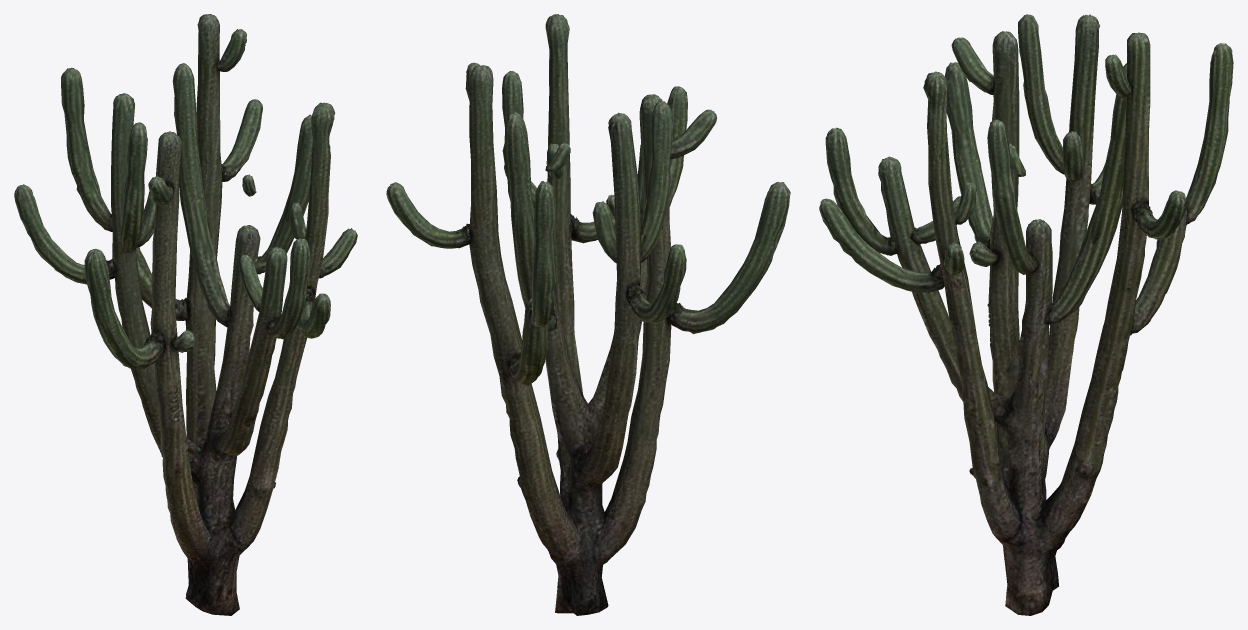
The model's file is runtime-candelabra-cactus.glb.
The picture shows the model from 3 angles, left to right: view 1: azimuth 30°, elevation 25°; view 2: azimuth 150°, elevation 25°; view 3: azimuth 270°, elevation 25°; orthographic projection. The views are drawn at different scales.
Visible parts, largest first — view 1: tripo_node_c11c48f6-0f8a-4d00-aa56-b020f17ccd70; view 2: tripo_node_c11c48f6-0f8a-4d00-aa56-b020f17ccd70; view 3: tripo_node_c11c48f6-0f8a-4d00-aa56-b020f17ccd70.
Boxes of the visible parts, x1,y1,x2,y2 form: tripo_node_c11c48f6-0f8a-4d00-aa56-b020f17ccd70: [14, 14, 357, 615]; tripo_node_c11c48f6-0f8a-4d00-aa56-b020f17ccd70: [386, 14, 790, 615]; tripo_node_c11c48f6-0f8a-4d00-aa56-b020f17ccd70: [819, 14, 1233, 615].
Bounding box in the file's own units: 0.5293 × 0.998 × 0.6309.
1 material, 1 textured.
